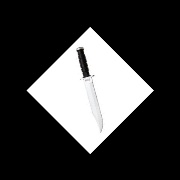k1: (80, 73, 104, 133)
